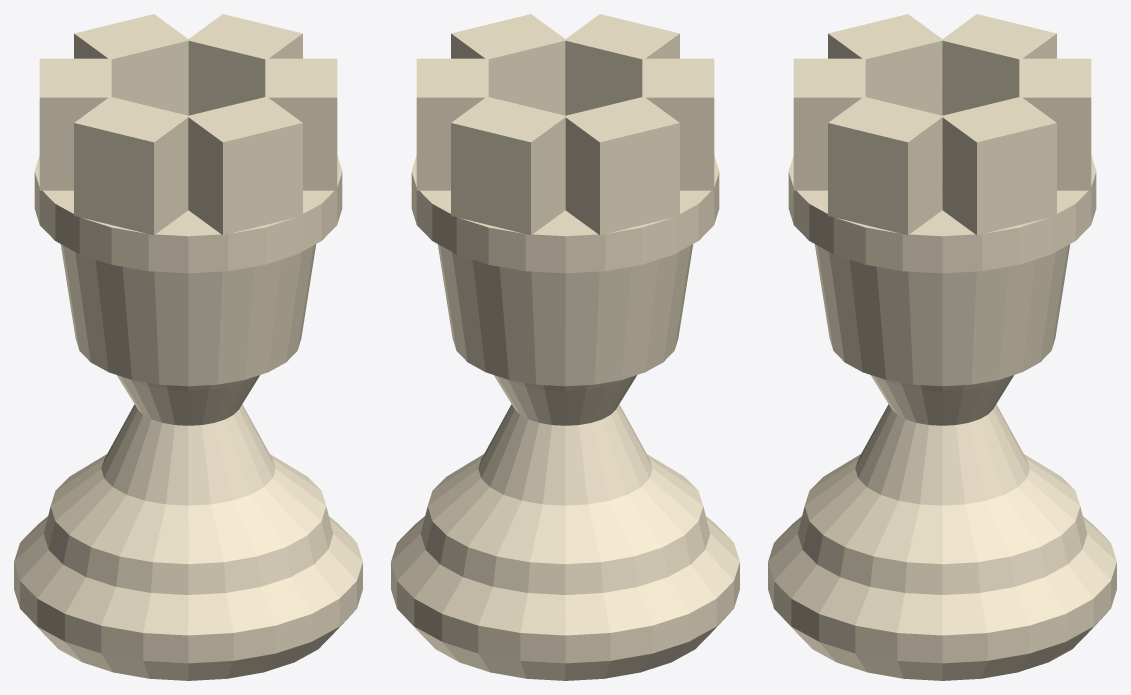
The model's file is rook.glb.
3 views of the same model, side by side, from view 1: azimuth 30°, elevation 25°; view 2: azimuth 150°, elevation 25°; view 3: azimuth 270°, elevation 25° (orthographic).
Visible parts, largest first — view 1: rook; view 2: rook; view 3: rook.
Part boxes in pixels (box(x1,y1,x2,y2)): rook: box(14, 14, 362, 680); rook: box(391, 14, 739, 680); rook: box(768, 14, 1116, 680).
Size of the model in its own units: 0.034 by 0.058 by 0.034.
